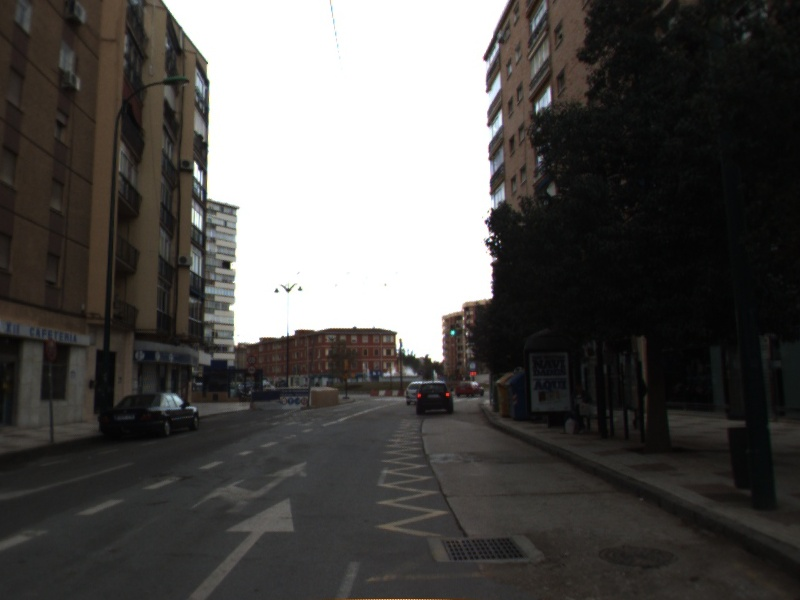STRAIGHT: (187, 496, 297, 600)
STRAIGHT_LEFT: (187, 459, 311, 517)
